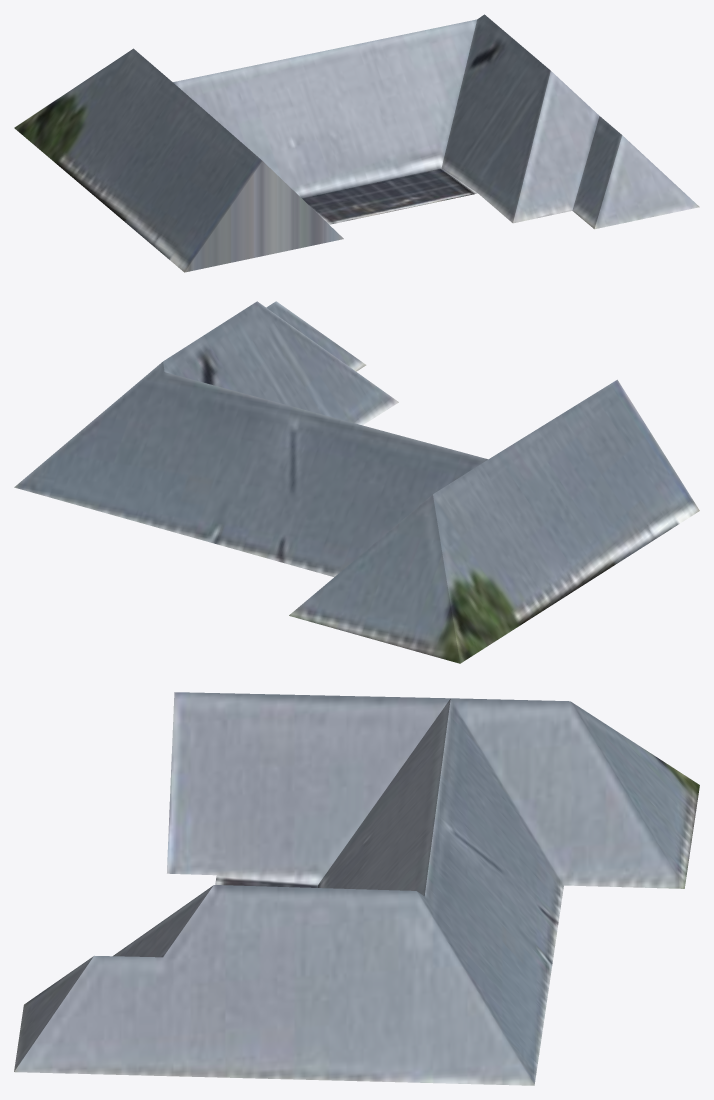
The model's file is CG10_500_038070_0013_roof.obj.
3 renders of one model, top to bottom at view 1: azimuth 30°, elevation 25°; view 2: azimuth 150°, elevation 25°; view 3: azimuth 270°, elevation 25°, orthographic. The views are drawn at different scales.
Parts seen in each view (by area): view 1: CG10_500_038070_0013_roof; view 2: CG10_500_038070_0013_roof; view 3: CG10_500_038070_0013_roof.
Part boxes in pixels (x1,y1,x2,y2): CG10_500_038070_0013_roof: (14,14,699,272); CG10_500_038070_0013_roof: (14,301,699,663); CG10_500_038070_0013_roof: (14,692,699,1085).
Size of the model in its own units: 344 by 72.33 by 317.
1 material, 1 textured.
